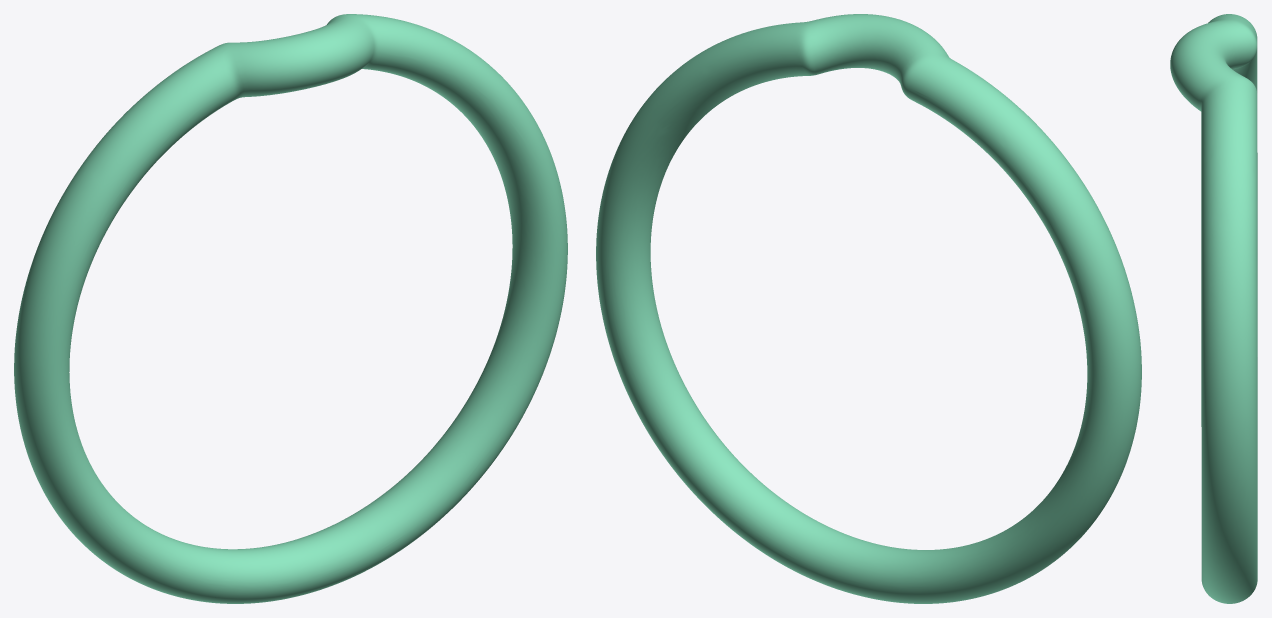
3 views of the same model, side by side, from view 1: azimuth 30°, elevation 25°; view 2: azimuth 150°, elevation 25°; view 3: azimuth 270°, elevation 25° (orthographic). The views are drawn at different scales.
Parts seen in each view (by area): view 1: Metal03; view 2: Metal03; view 3: Metal03.
Part boxes in pixels (x1,y1,x2,y2): Metal03: (14,14,567,603); Metal03: (596,14,1141,603); Metal03: (1170,14,1257,603).
Bounding box in the file's own units: 20.89 × 20.88 × 3.1.
